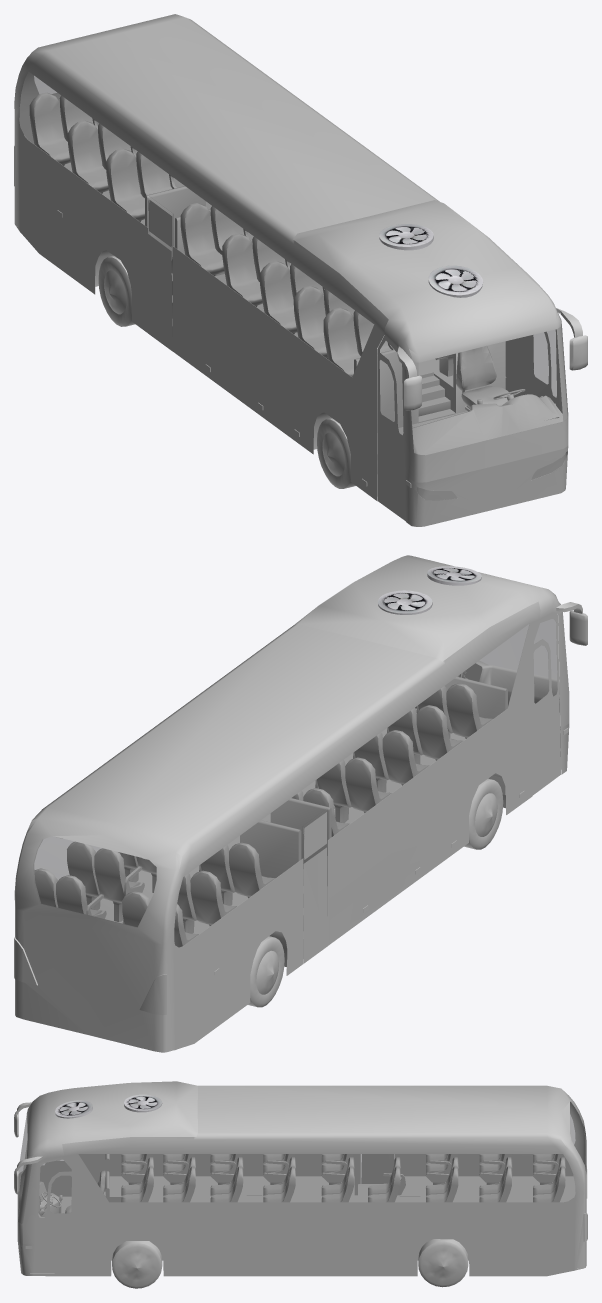
The model's file is devel Bus1.fbx.
3 renders of one model, top to bottom at view 1: azimuth 30°, elevation 25°; view 2: azimuth 150°, elevation 25°; view 3: azimuth 270°, elevation 25°, orthographic. The views are drawn at different scales.
Visible parts, largest first — view 1: bus_body, inside_and_glass, seat, door, door2, FR, BR, bus_body.001, Cylinder.004, bus_body.002, Cylinder.002; view 2: bus_body, inside_and_glass, seat, door, door2, FR, BR, bus_body.001, bus_body.002, Cylinder.002, Cylinder.004; view 3: bus_body, inside_and_glass, seat, BL, FL, bus_body.003, bus_body.004, door2, door, Cylinder.002, Cylinder.004.
Boxes of the visible parts, <box> form: bus_body: <box>14,14,568,526</box>; inside_and_glass: <box>14,71,587,500</box>; seat: <box>29,92,453,376</box>; door: <box>378,335,405,521</box>; door2: <box>148,196,172,351</box>; FR: <box>317,418,355,488</box>; BR: <box>98,255,134,326</box>; bus_body.001: <box>206,343,250,407</box>; Cylinder.004: <box>428,265,483,295</box>; bus_body.002: <box>174,320,206,375</box>; Cylinder.002: <box>379,224,433,246</box>; bus_body: <box>14,601,569,1052</box>; inside_and_glass: <box>14,555,587,1015</box>; seat: <box>34,683,492,947</box>; door: <box>532,614,560,795</box>; door2: <box>303,808,327,963</box>; FR: <box>464,778,503,849</box>; BR: <box>248,936,284,1007</box>; bus_body.001: <box>362,856,405,920</box>; bus_body.002: <box>329,888,361,944</box>; Cylinder.002: <box>378,590,432,613</box>; Cylinder.004: <box>427,566,481,582</box>; bus_body: <box>17,1085,586,1276</box>; inside_and_glass: <box>14,1081,587,1275</box>; seat: <box>121,1154,565,1202</box>; BL: <box>418,1239,468,1287</box>; FL: <box>112,1241,162,1288</box>; bus_body.003: <box>252,1253,312,1276</box>; bus_body.004: <box>313,1253,368,1276</box>; door2: <box>361,1154,394,1183</box>; door: <box>40,1160,71,1196</box>; Cylinder.002: <box>124,1094,161,1110</box>; Cylinder.004: <box>55,1100,92,1117</box>.
Size of the model in its own units: 240 by 287 by 926.
